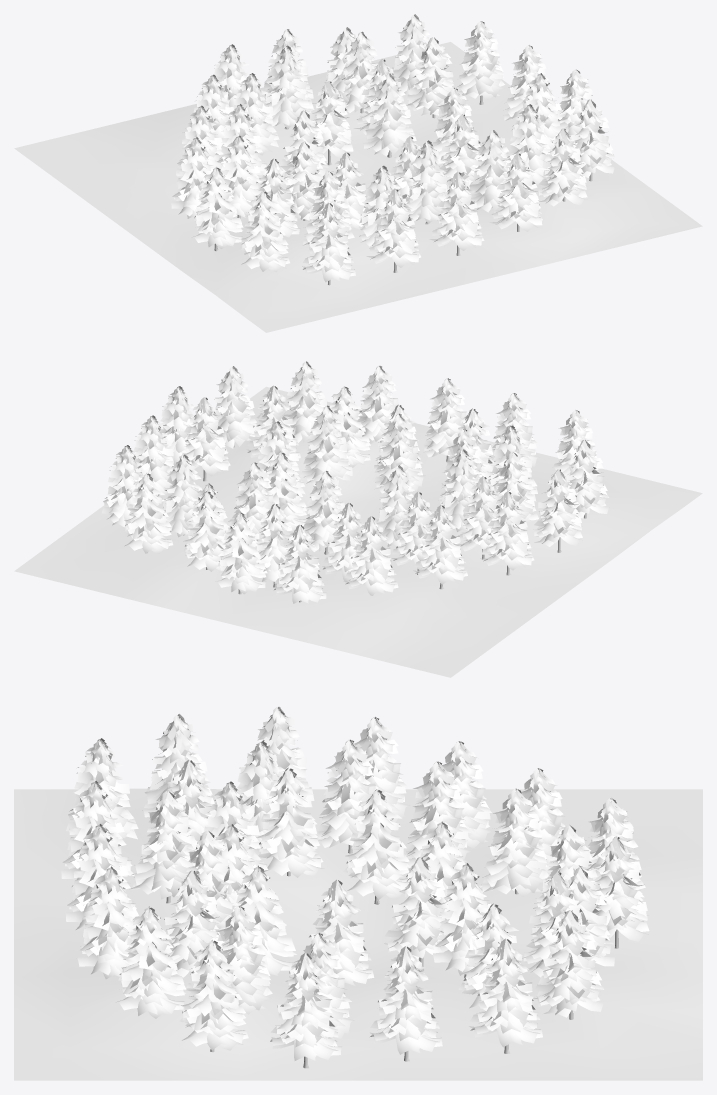
The model's file is Tree.gltf.
3 renders of one model, top to bottom at view 1: azimuth 30°, elevation 25°; view 2: azimuth 150°, elevation 25°; view 3: azimuth 270°, elevation 25°, orthographic. The views are drawn at different scales.
Parts seen in each view (by area): view 1: pine1_0, obj1_1; view 2: pine1_0, obj1_1; view 3: pine1_0, obj1_1.
Part boxes in pixels (<box>): pine1_0: <box>171,14,614,285</box>; obj1_1: <box>14,42,702,332</box>; pine1_0: <box>102,361,609,603</box>; obj1_1: <box>14,386,702,677</box>; pine1_0: <box>61,707,649,1068</box>; obj1_1: <box>14,788,702,1080</box>.
Bounding box in the file's own units: 54.55 × 10.48 × 54.32.
Materials: 2 (1 with a texture image).
